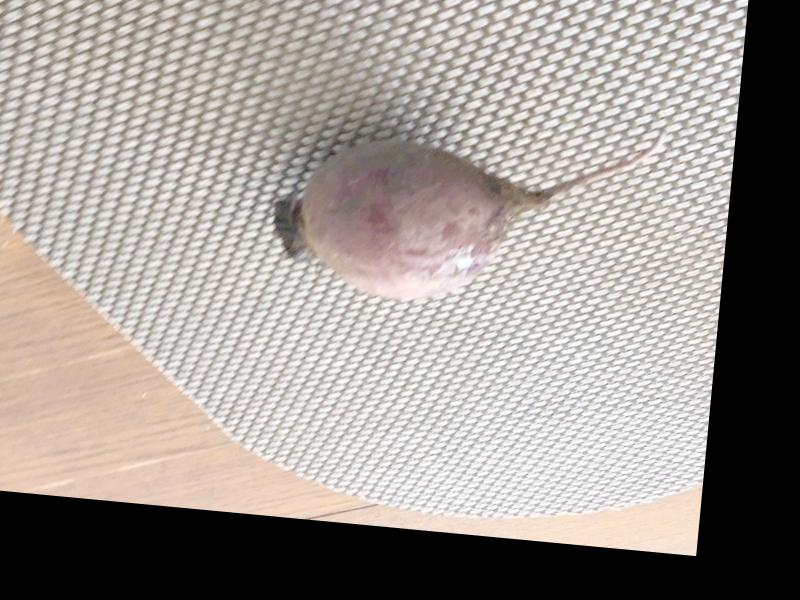Beet: (265, 95, 666, 322)
